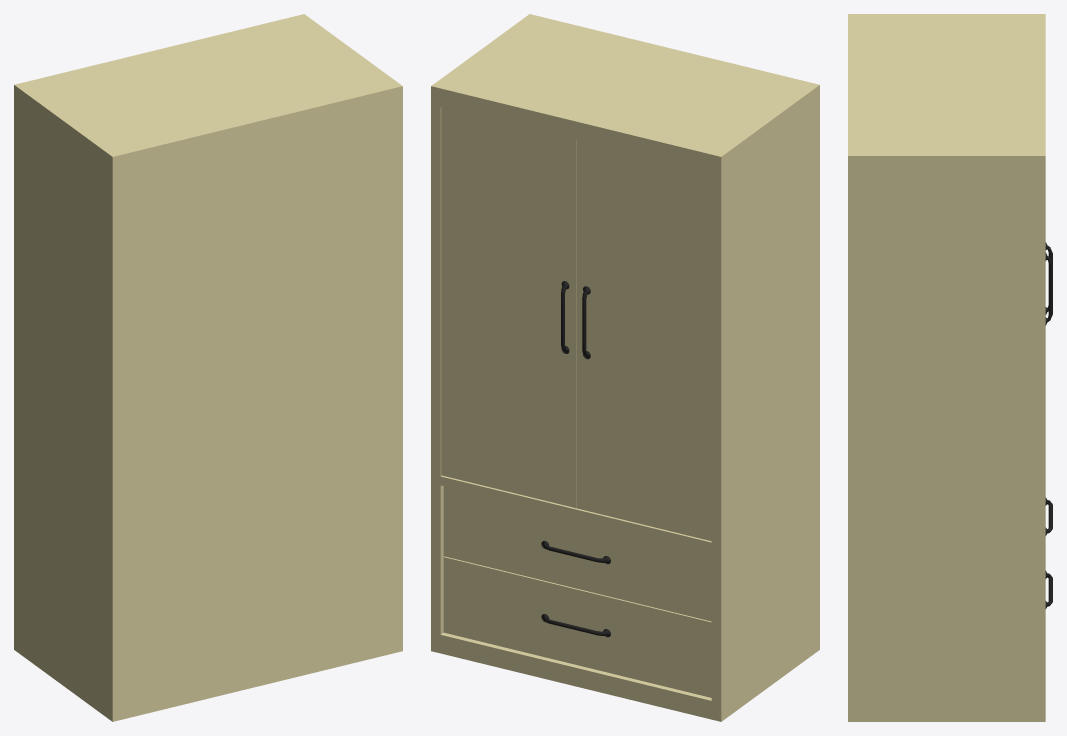
Rendered from Closet.fbx.
The picture shows the model from 3 angles, left to right: view 1: azimuth 30°, elevation 25°; view 2: azimuth 150°, elevation 25°; view 3: azimuth 270°, elevation 25°; orthographic projection.
Parts seen in each view (by area): view 1: Closet; view 2: Closet; view 3: Closet.
Part boxes in pixels (x1,y1,x2,y2): Closet: (14, 14, 402, 721); Closet: (431, 14, 819, 721); Closet: (848, 14, 1052, 721).
Bounding box in the file's own units: 11.95 × 22.24 × 7.29.
